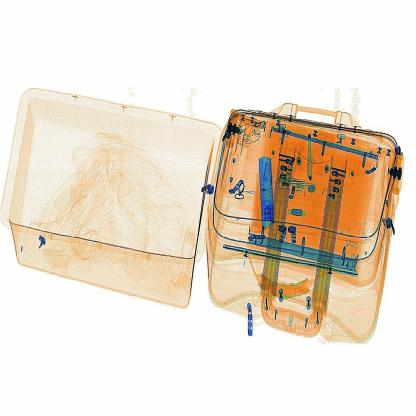pliers: (248, 151, 280, 233)
